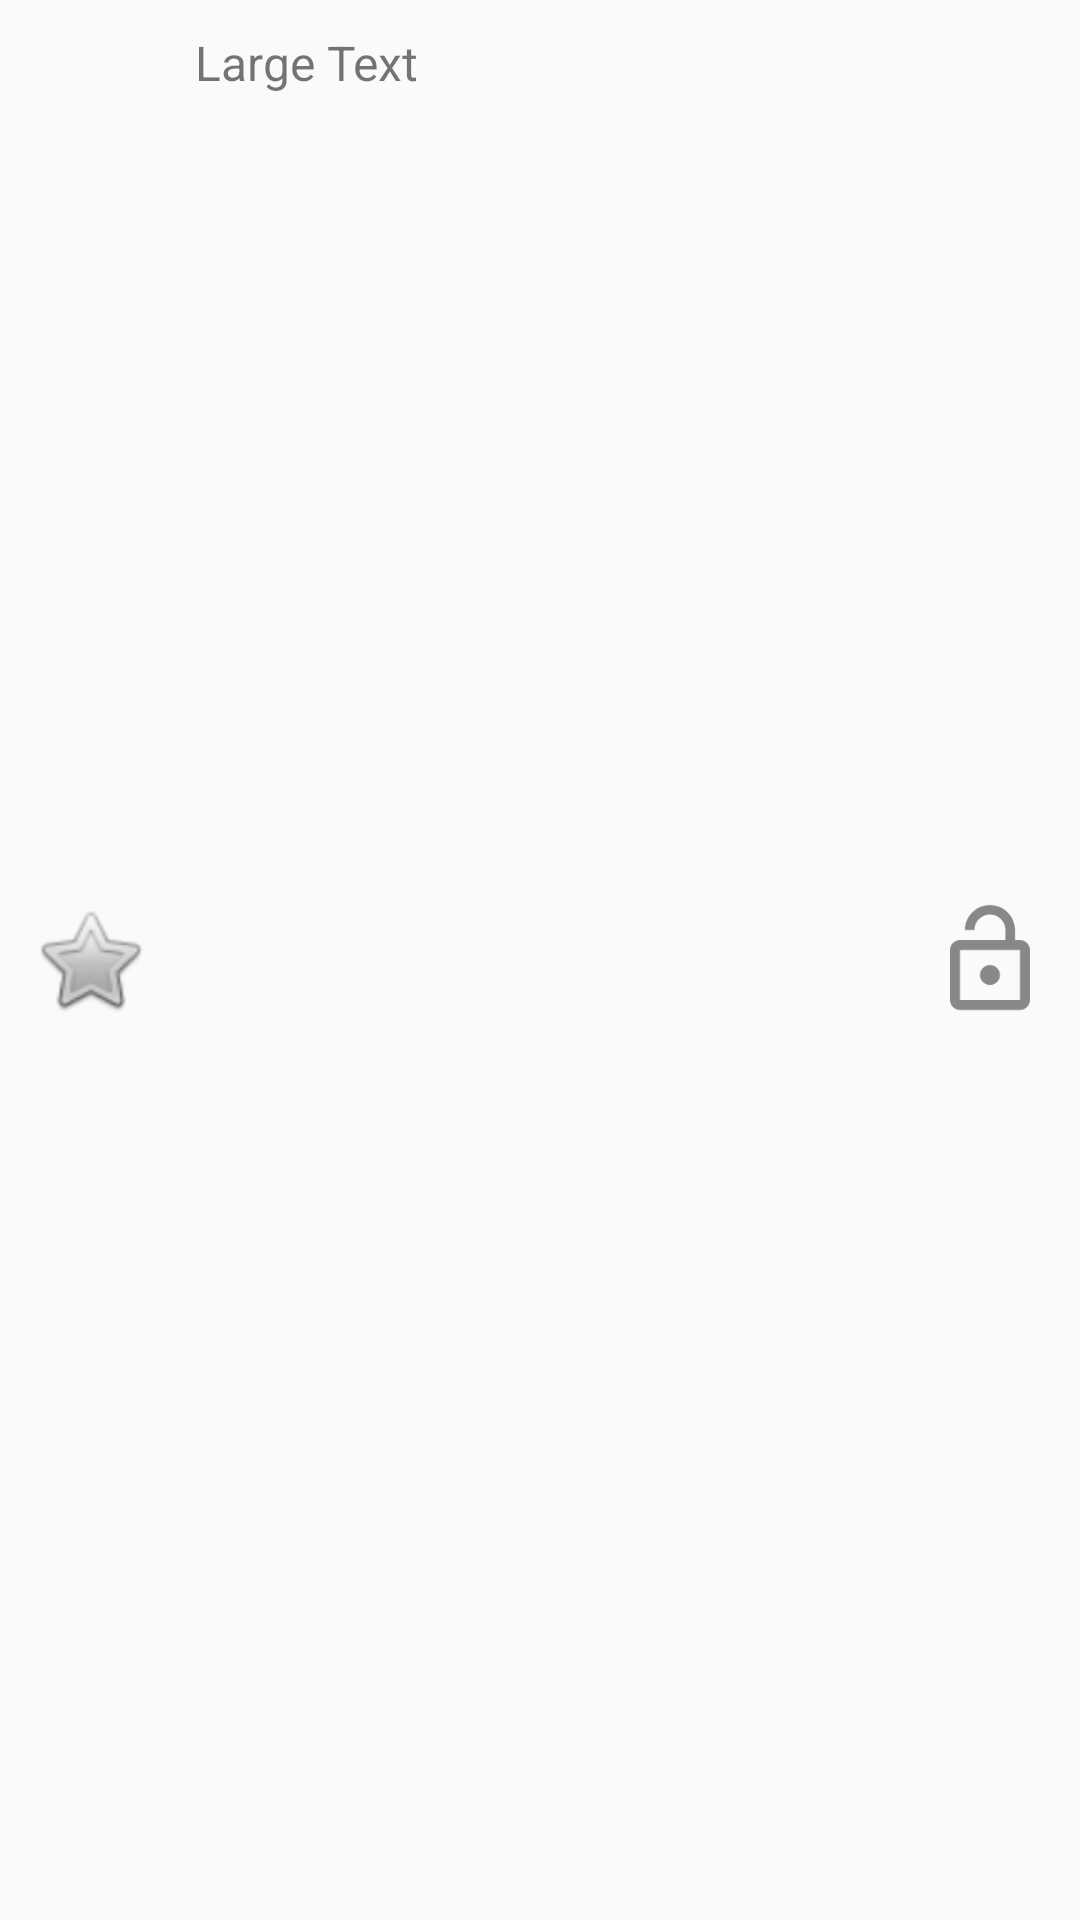

Where to tap for icons on this 1080x1920 app screen, as (x=x, y=y):
star: (x=91, y=961)
